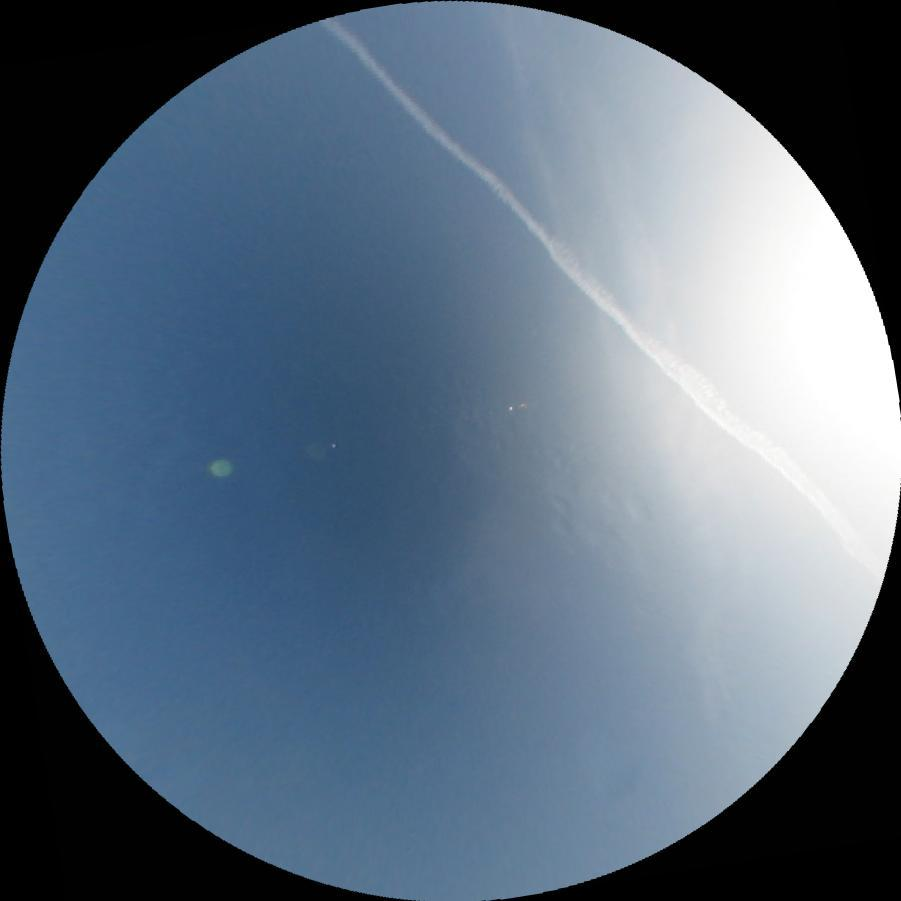contrail veryold: (310, 3, 896, 577)
